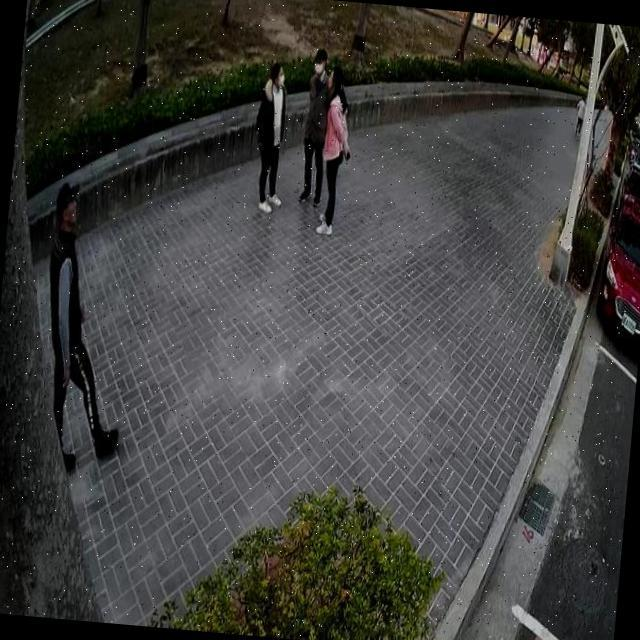person: (27, 170, 144, 477), (309, 59, 360, 238), (245, 54, 296, 218), (294, 44, 336, 206), (572, 92, 588, 136)
